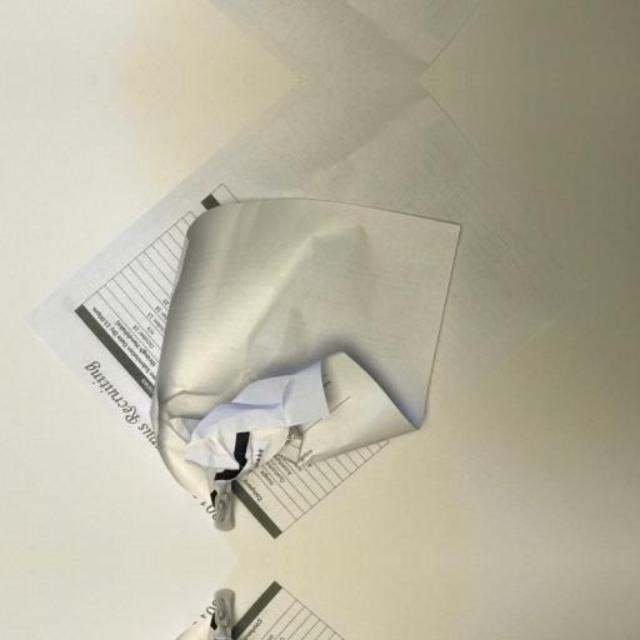paper: (33, 155, 491, 541), (33, 579, 491, 640), (33, 0, 491, 5)
